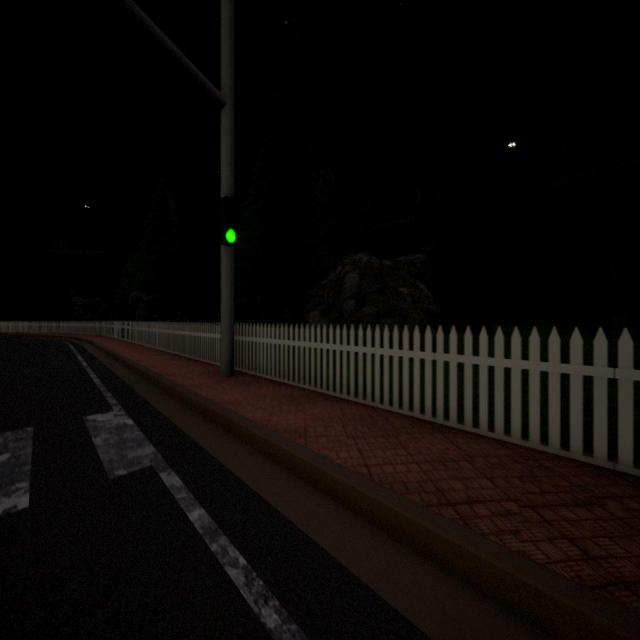traffic_light: (219, 194, 239, 245)
